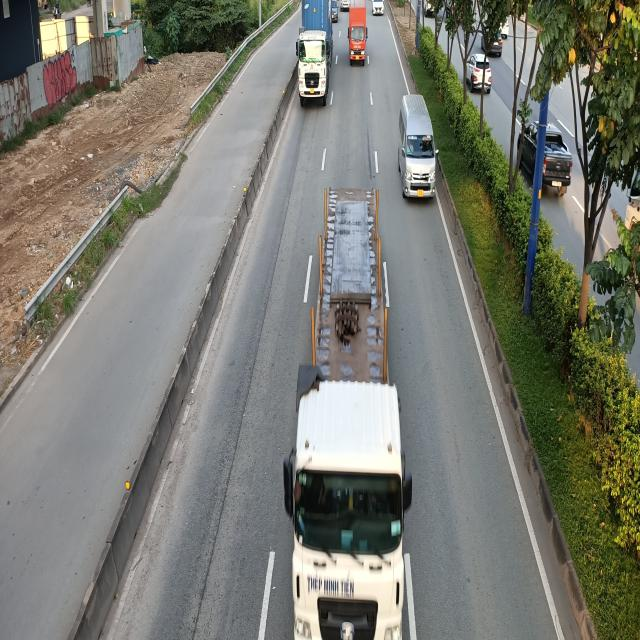container: (281, 190, 408, 640), (294, 0, 332, 108)
truck: (348, 1, 369, 70)
van: (400, 94, 440, 200)
